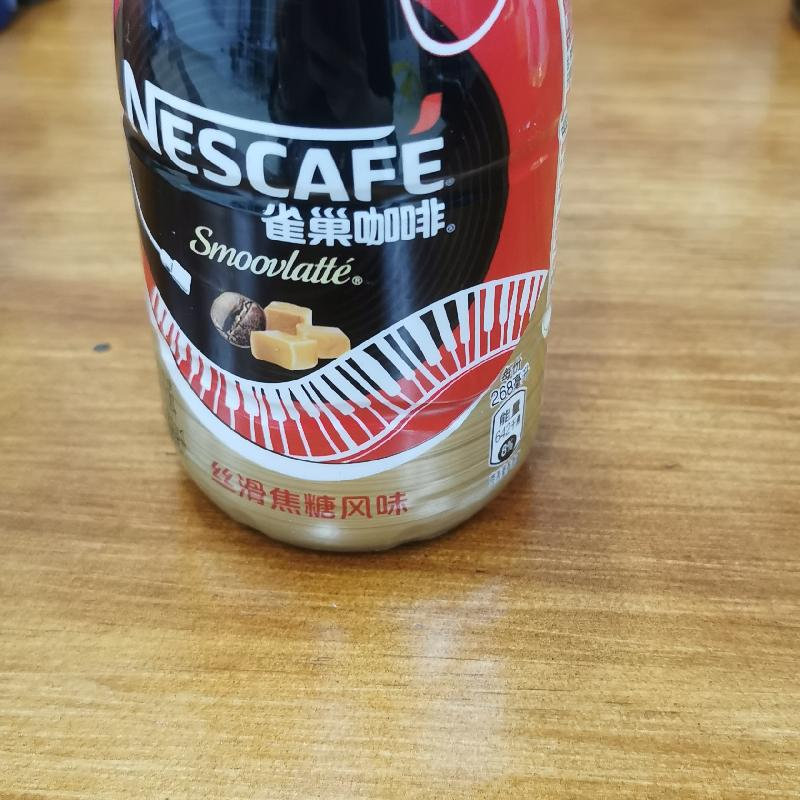bottles: (98, 3, 580, 559)
